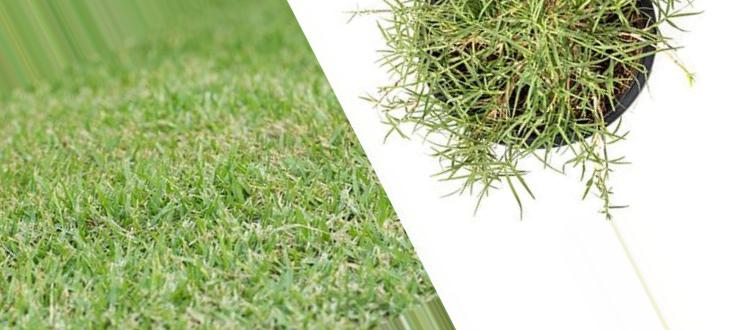patch: (135, 96, 308, 165), (47, 122, 82, 150)
